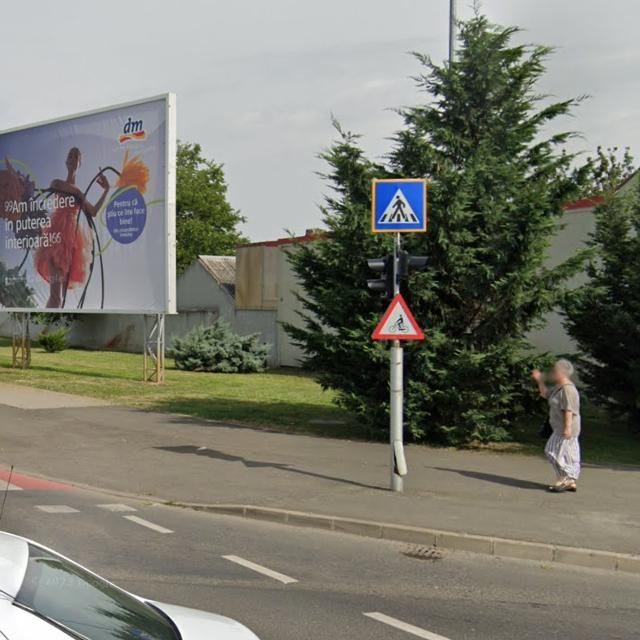info_crosswalk: (371, 179, 427, 232)
